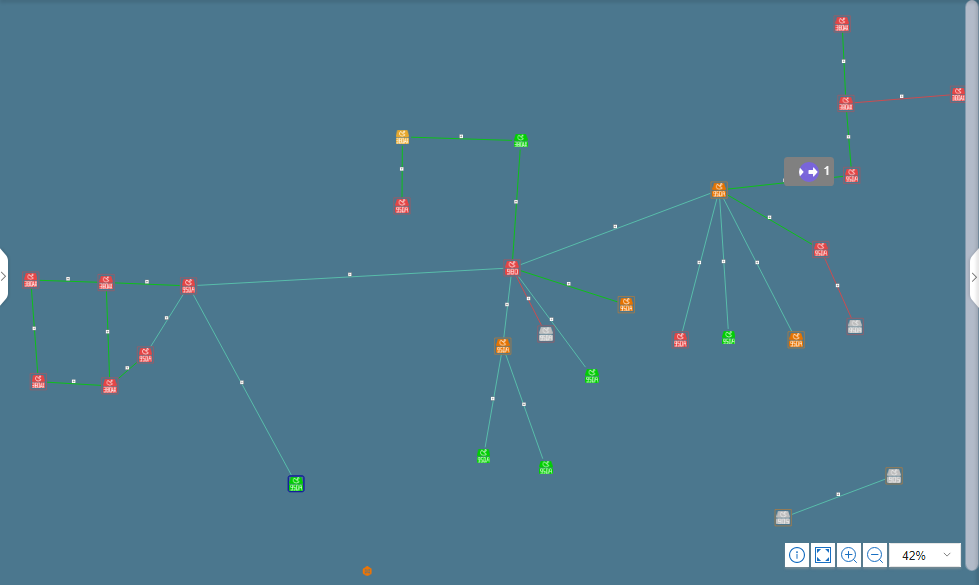ATN_Orange: (713, 179, 730, 202), (395, 130, 411, 147), (621, 296, 638, 311)
ATN_Red: (505, 259, 522, 282), (835, 14, 852, 37), (670, 332, 693, 348), (841, 167, 864, 182), (101, 277, 118, 294), (951, 88, 968, 104), (34, 375, 50, 392), (395, 198, 411, 213)
Link_Blue: (193, 296, 295, 478), (523, 192, 705, 260), (725, 208, 788, 326), (517, 277, 589, 374), (199, 265, 499, 285), (505, 357, 546, 458), (682, 198, 714, 317), (792, 479, 875, 511), (150, 296, 181, 341), (486, 357, 500, 419), (719, 244, 727, 331), (505, 277, 516, 297)
Link_Green: (739, 198, 815, 242), (531, 271, 620, 306), (511, 143, 528, 244), (841, 100, 858, 161), (52, 277, 99, 288), (731, 179, 783, 187), (841, 65, 852, 98), (490, 136, 516, 147), (119, 363, 133, 374), (34, 363, 44, 374), (92, 381, 95, 392)
Link_Red: (823, 259, 849, 315), (854, 94, 927, 103)
RTN_Green: (584, 369, 601, 386), (542, 461, 558, 478), (719, 332, 734, 349), (480, 449, 490, 465)
RTN_Orange: (499, 338, 516, 354)
Router_Red: (21, 271, 44, 294), (101, 375, 118, 398)
Switch_Red: (21, 271, 44, 294), (835, 14, 852, 37), (181, 277, 196, 292)
